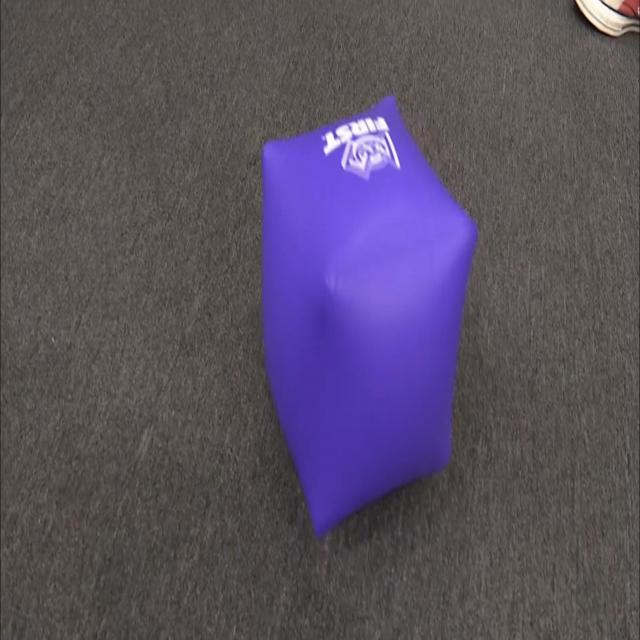frc_cube: (255, 86, 482, 538)
